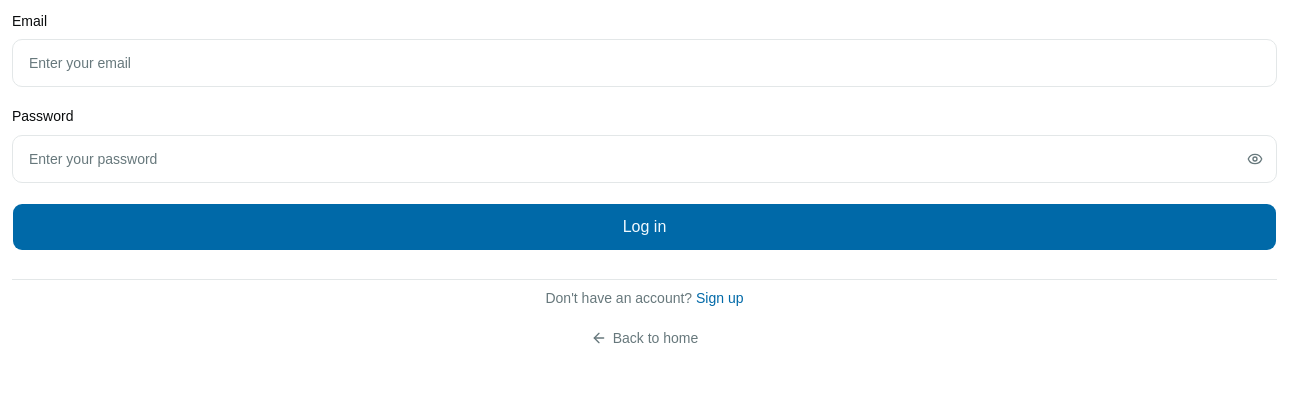
it: LoginForm › shows validation errors for empty fields
Click the button "Log in".
click(644, 226)  # box [12,202,1277,250]
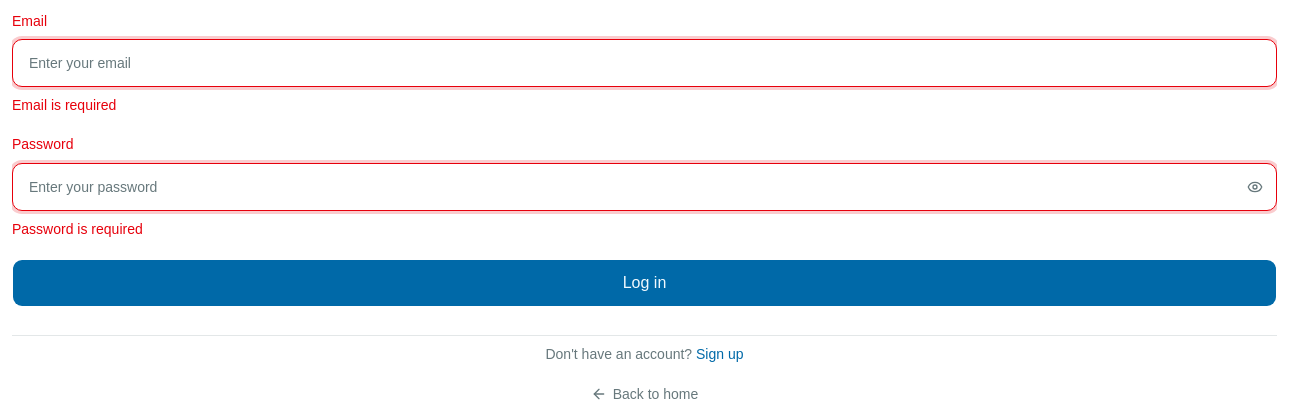
Expected: the text "Email is required" is shown, [12,97,116,113]
Expected: the text "Password is required" is shown, [12,220,143,236]
